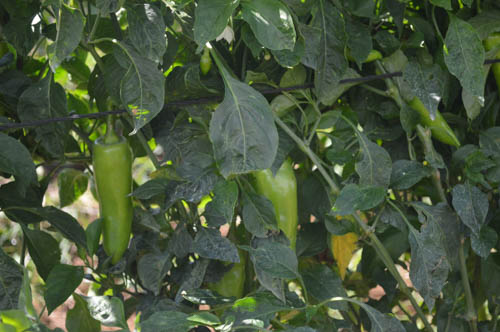ChiliPepper: (385, 62, 468, 150), (89, 137, 141, 267), (249, 144, 309, 255), (203, 244, 251, 319), (483, 30, 500, 87)
